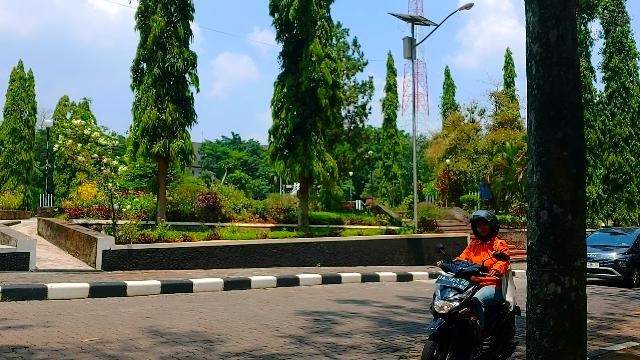helm: (472, 211, 501, 241)
motor: (423, 261, 519, 360)
